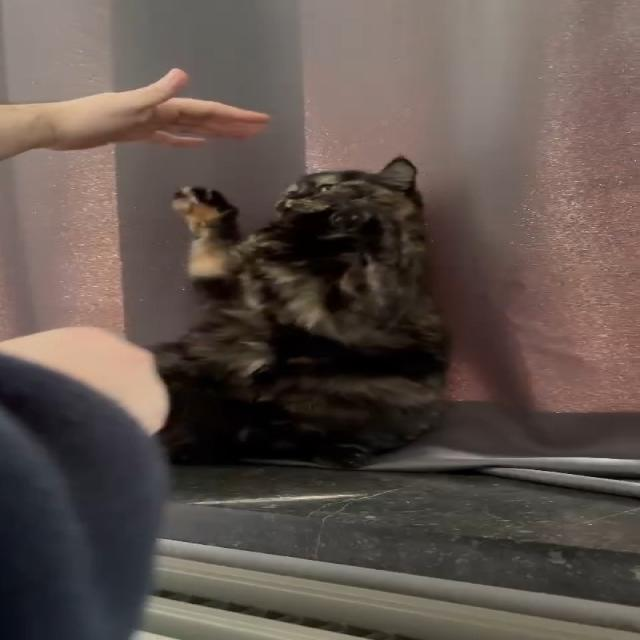authorized: (146, 155, 454, 469)
